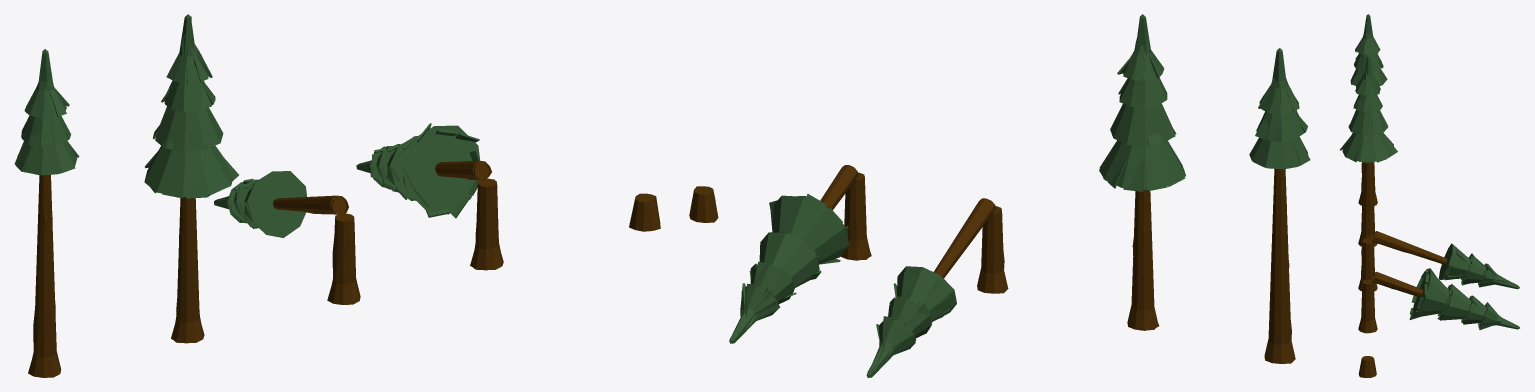
File: ялинки.fbx
The picture shows the model from 3 angles, left to right: view 1: azimuth 30°, elevation 25°; view 2: azimuth 150°, elevation 25°; view 3: azimuth 270°, elevation 25°; orthographic projection. The views are drawn at different scales.
Parts seen in each view (by area): view 1: Цилиндр.029, Цилиндр.031, Цилиндр.030, Цилиндр.028, Цилиндр.017, Цилиндр.025, Цилиндр.026, Цилиндр.027, Цилиндр.032; view 2: Цилиндр.031, Цилиндр.029, Цилиндр.030, Цилиндр.028, Цилиндр.017, Цилиндр.025, Цилиндр.027, Цилиндр.026, Цилиндр.032; view 3: Цилиндр.031, Цилиндр.029, Цилиндр.030, Цилиндр.026, Цилиндр.025, Цилиндр.027, Цилиндр.028, Цилиндр.017, Цилиндр.032.
Part boxes in pixels (bbox=[...]): Цилиндр.029: bbox=[144, 14, 233, 343]; Цилиндр.031: bbox=[356, 125, 502, 270]; Цилиндр.030: bbox=[214, 171, 360, 304]; Цилиндр.028: bbox=[15, 49, 77, 377]; Цилиндр.017: bbox=[14, 50, 79, 357]; Цилиндр.025: bbox=[144, 15, 238, 343]; Цилиндр.026: bbox=[364, 123, 503, 270]; Цилиндр.027: bbox=[215, 178, 355, 284]; Цилиндр.032: bbox=[629, 193, 660, 231]; Цилиндр.031: bbox=[729, 165, 870, 343]; Цилиндр.029: bbox=[1099, 14, 1185, 330]; Цилиндр.030: bbox=[866, 199, 1008, 377]; Цилиндр.028: bbox=[1253, 48, 1305, 363]; Цилиндр.017: bbox=[1249, 49, 1310, 363]; Цилиндр.025: bbox=[1099, 26, 1185, 330]; Цилиндр.027: bbox=[867, 198, 1004, 372]; Цилиндр.026: bbox=[730, 165, 871, 338]; Цилиндр.032: bbox=[689, 186, 718, 222]; Цилиндр.031: bbox=[1358, 271, 1519, 332]; Цилиндр.029: bbox=[1342, 55, 1391, 246]; Цилиндр.030: bbox=[1358, 231, 1519, 291]; Цилиндр.026: bbox=[1361, 268, 1517, 333]; Цилиндр.025: bbox=[1340, 56, 1397, 246]; Цилиндр.027: bbox=[1361, 231, 1517, 287]; Цилиндр.028: bbox=[1351, 14, 1386, 205]; Цилиндр.017: bbox=[1350, 15, 1387, 199]; Цилиндр.032: bbox=[1358, 356, 1376, 377].
Size of the model in its own units: 3258 by 1573 by 1361.
